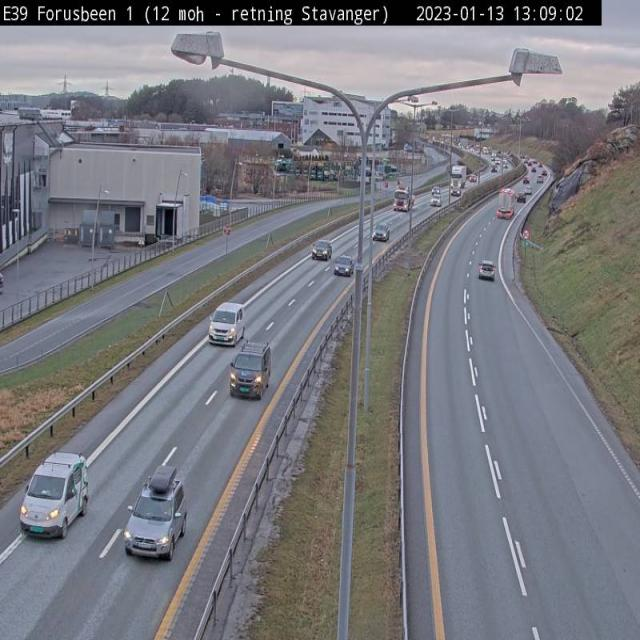car: (18, 451, 91, 540), (123, 466, 187, 561), (228, 342, 272, 400), (207, 302, 246, 347), (208, 302, 246, 347), (333, 255, 354, 277), (312, 240, 332, 261), (477, 260, 496, 280), (372, 228, 388, 243)
